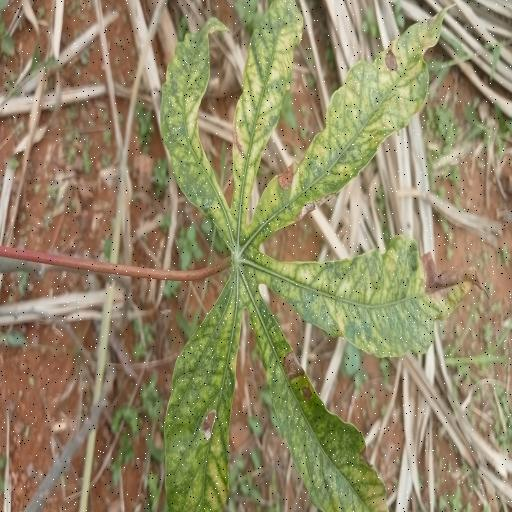Cassava_Mosaic: (158, 0, 490, 512)
